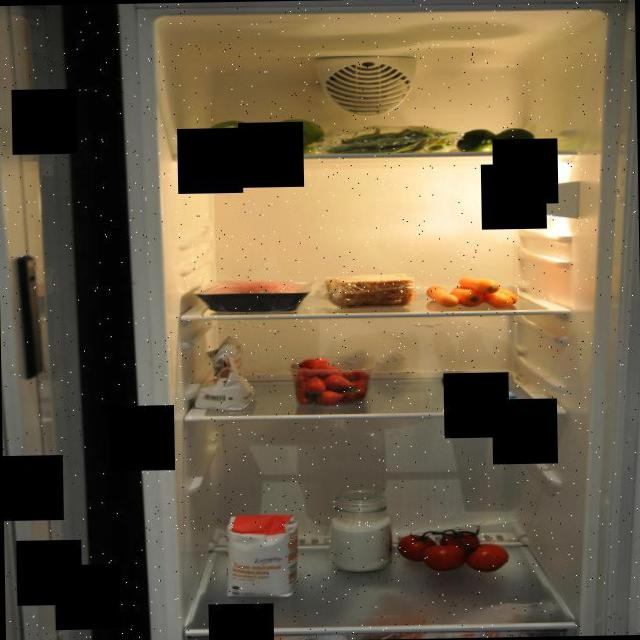Manzana: (201, 114, 330, 158)
Tomate: (392, 524, 505, 574)
Zanahoria: (421, 272, 522, 312)
